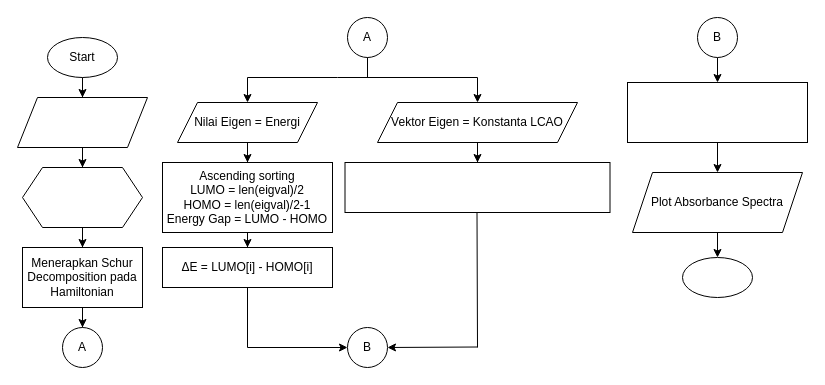
This 825x385 diagram has some shape labels left out. The shapes that lost their labels are listed below. From the top down, each one's centre as x and y in pixels, then its label:
point (82, 122): Input nilai α dan β
point (717, 112): Absorbance Spectra spec = (energy - ΔE)/Gamma absorb += Mtot[i]/(1+spec**2)
point (82, 197): Generate matrix Hamiltonian dua dimensi
point (477, 187): Momen Dipol Mtot += vektorEigenLUMO * vektorEigenHOMO
point (717, 277): Stop
